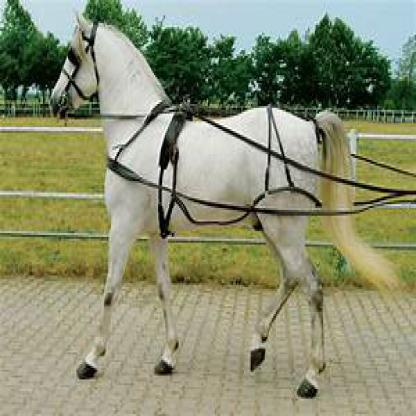horse: (47, 6, 395, 398)
